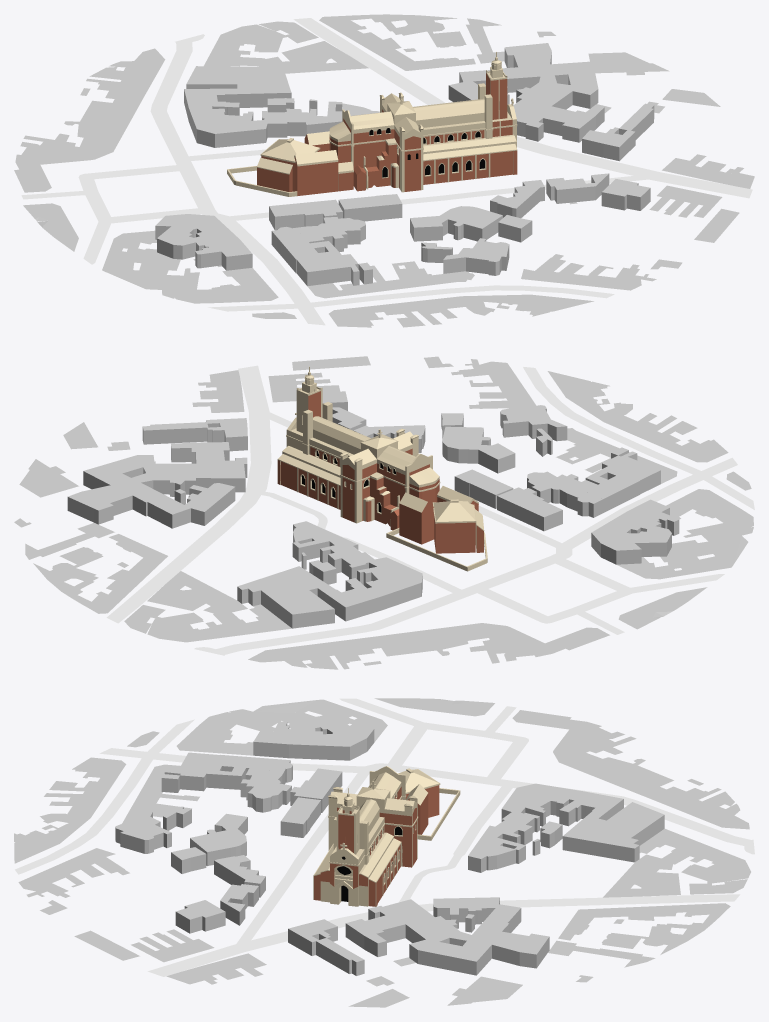
The model's file is albert_basilique_notre_dame_de_brebieres.glb.
3 renders of one model, top to bottom at view 1: azimuth 30°, elevation 25°; view 2: azimuth 150°, elevation 25°; view 3: azimuth 270°, elevation 25°, orthographic.
Parts seen in each view (by area): view 1: city-albert, poi-albert, Routes; view 2: city-albert, poi-albert, Routes; view 3: city-albert, Routes, poi-albert.
Part boxes in pixels (x1=…): city-albert: x1=14, y1=14, x2=754, y2=327; poi-albert: x1=227, y1=52, x2=517, y2=196; Routes: x1=21, y1=18, x2=752, y2=325; city-albert: x1=14, y1=356, x2=753, y2=669; poi-albert: x1=277, y1=366, x2=487, y2=571; Routes: x1=106, y1=365, x2=754, y2=655; city-albert: x1=14, y1=698, x2=750, y2=1007; Routes: x1=15, y1=698, x2=754, y2=976; poi-albert: x1=313, y1=766, x2=460, y2=906.
Size of the model in its own units: 1.14 by 0.1901 by 1.16.
